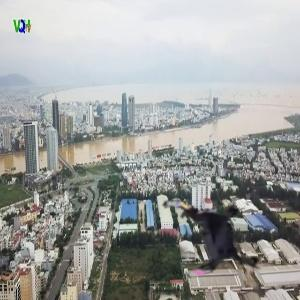drone: (162, 185, 266, 289)
